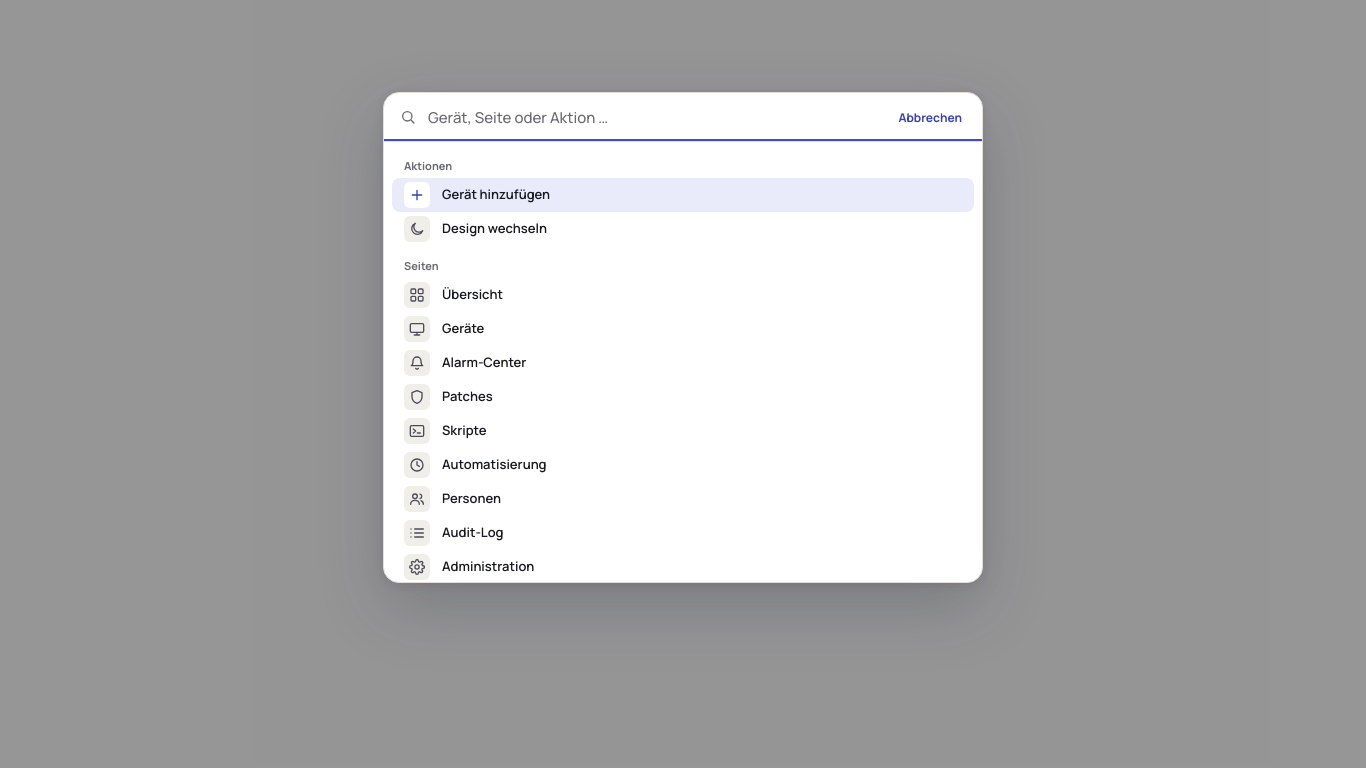
Test case: CommandPalette › ranks devices, names their state and tells twins apart
Type "kasse" into the dropdown at coordinates (653, 117), box [428,101,878,133]
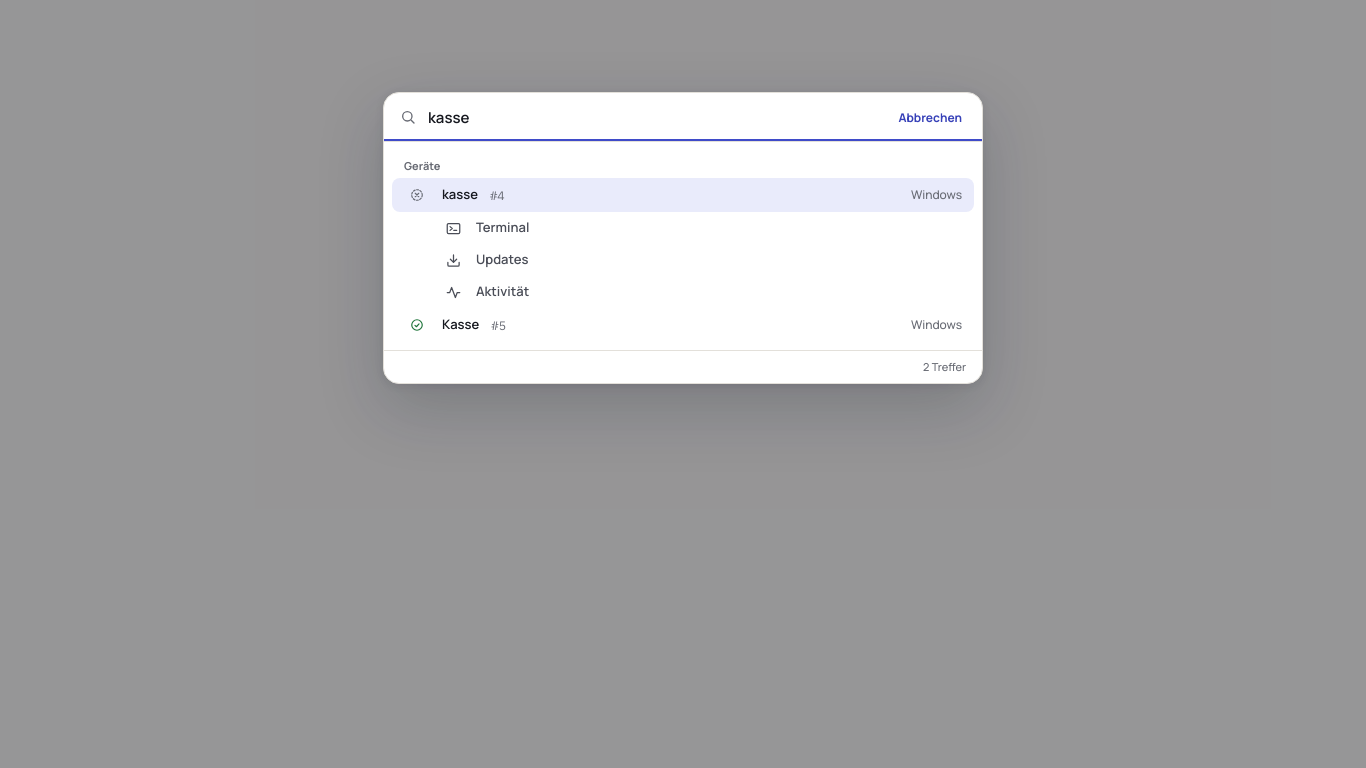
Expected: the element "Geräte" is shown, [392,146,974,342]
Expected: the option with aria-label "kasse #4, Offline, Windows" is shown, [392,178,974,212]
Expected: the option with aria-label "Kasse #5, OK, Windows" is shown, [392,308,974,342]
